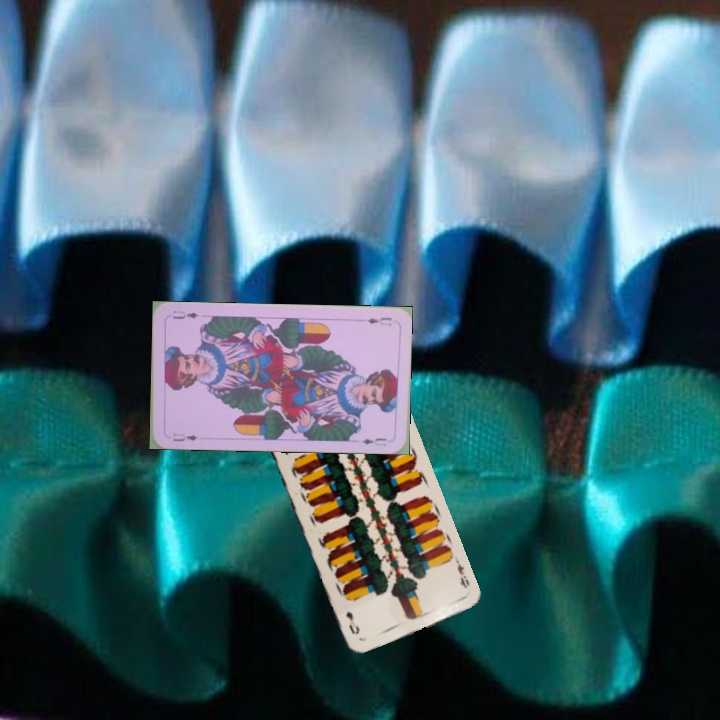E9: (452, 557, 472, 591)
EU: (363, 313, 395, 328), (169, 429, 200, 444)
